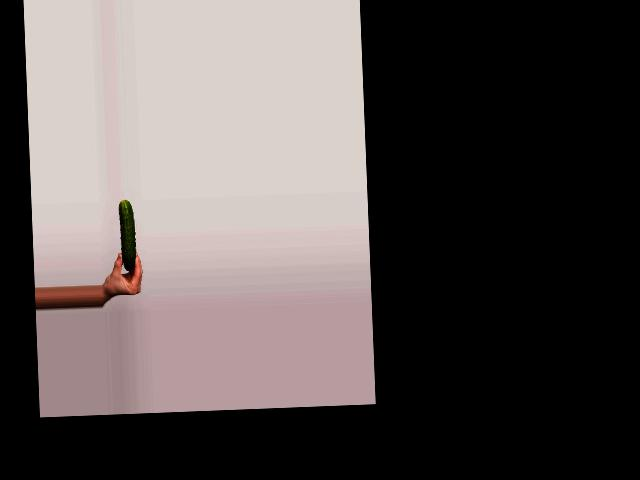cucumber: (119, 200, 136, 271)
